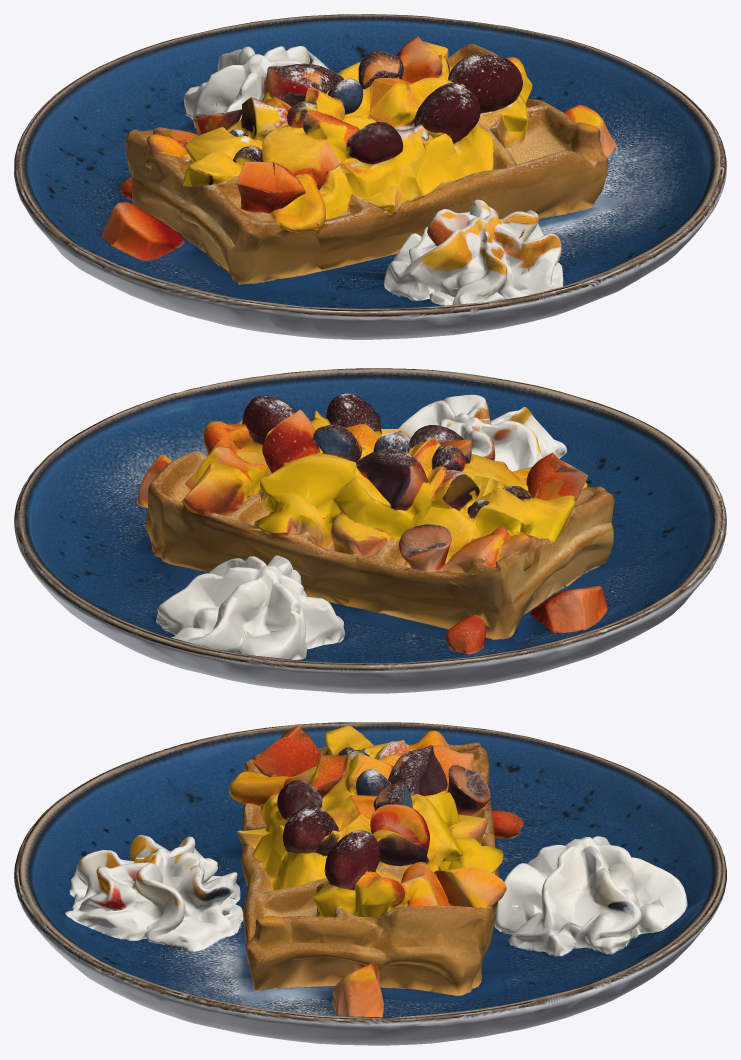
File: dish.glb
3 renders of one model, top to bottom at view 1: azimuth 30°, elevation 25°; view 2: azimuth 150°, elevation 25°; view 3: azimuth 270°, elevation 25°, orthographic.
Visible parts, largest first — view 1: mesh_node; view 2: mesh_node; view 3: mesh_node.
Part boxes in pixels (x1=…): mesh_node: x1=14, y1=14, x2=726, y2=339; mesh_node: x1=14, y1=368, x2=726, y2=693; mesh_node: x1=14, y1=722, x2=726, y2=1045.
Bounding box in the file's own units: 0.371 × 0.09 × 0.371.
1 material, 1 textured.
